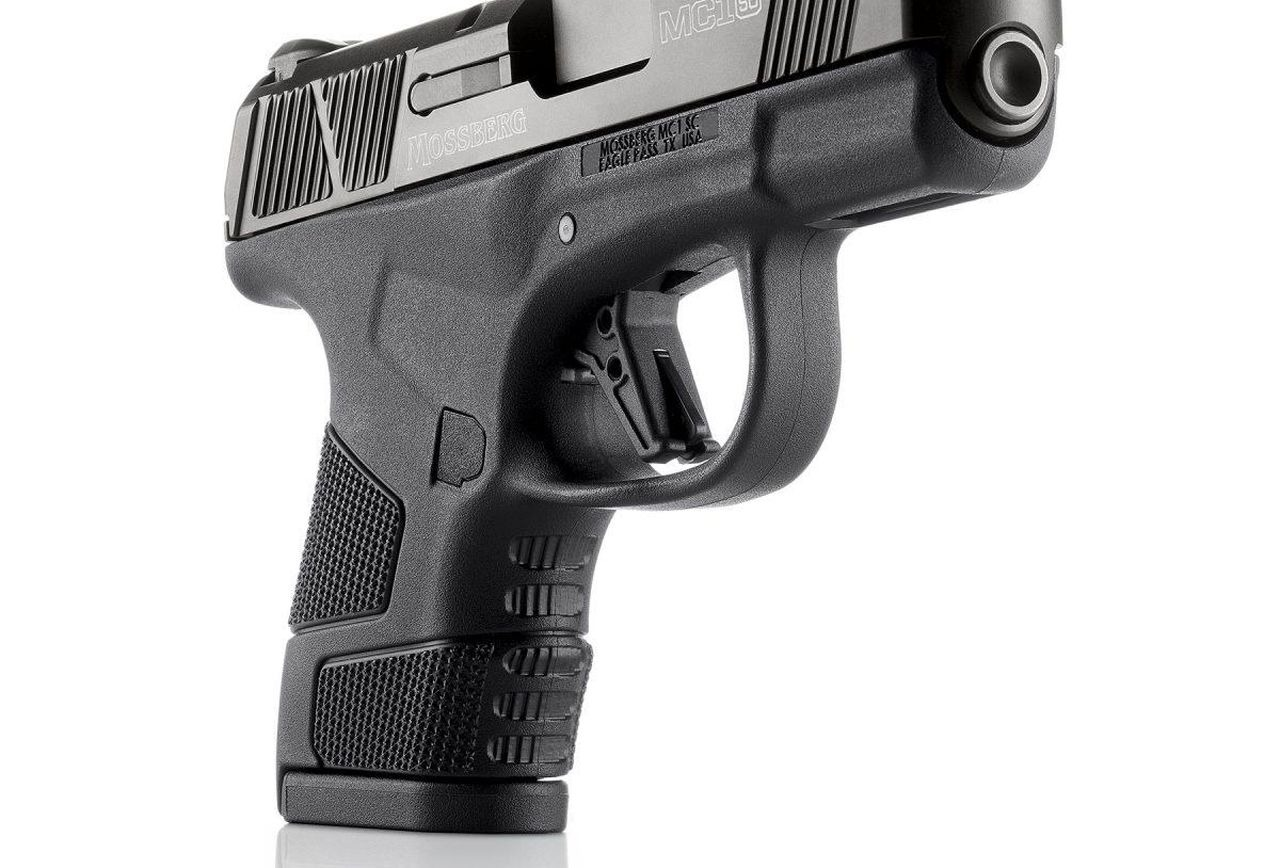gun: (210, 15, 1072, 843)
